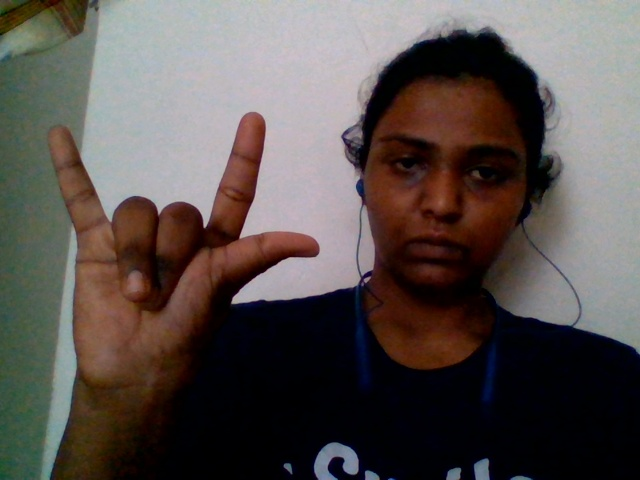IloveYou: (27, 84, 342, 407)
